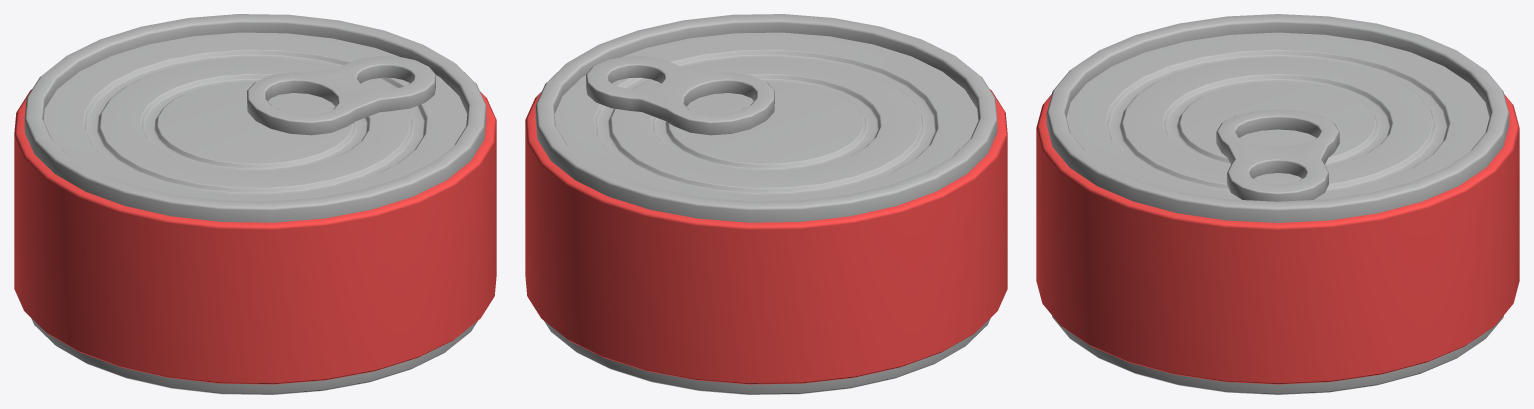
Rendered from Store_11_Canned_Food_1.glb.
3 views of the same model, side by side, from view 1: azimuth 30°, elevation 25°; view 2: azimuth 150°, elevation 25°; view 3: azimuth 270°, elevation 25° (orthographic).
Visible parts, largest first — view 1: Store_11_Canned_Food_1; view 2: Store_11_Canned_Food_1; view 3: Store_11_Canned_Food_1.
Boxes of the visible parts, x1=… form: Store_11_Canned_Food_1: x1=14, y1=14, x2=496, y2=394; Store_11_Canned_Food_1: x1=525, y1=14, x2=1007, y2=394; Store_11_Canned_Food_1: x1=1036, y1=14, x2=1519, y2=394.
Size of the model in its own units: 1.09 by 0.4749 by 1.09.
Materials: 1 (1 with a texture image).
